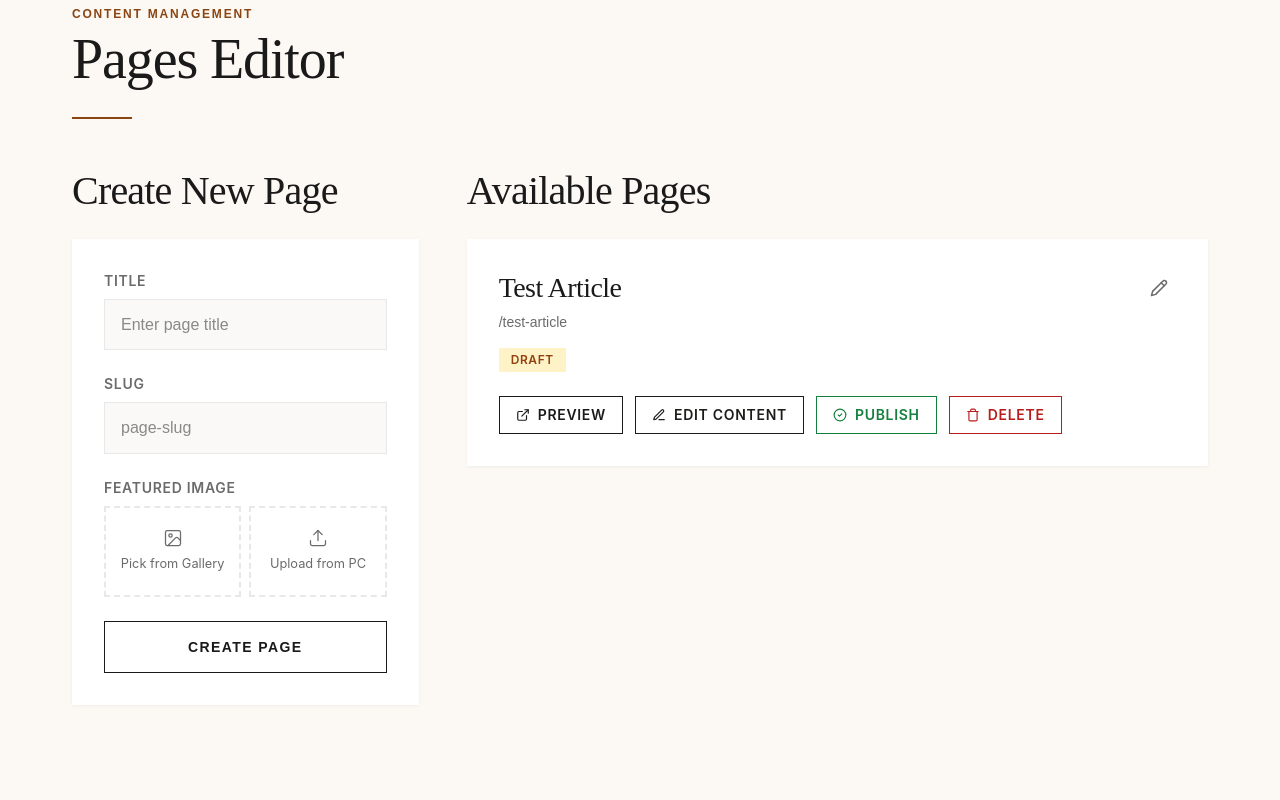
Scenario: ArticleEditor Component › Delete Article › should handle delete error
What coordinates should you click on to do the following:
click the button "Delete"
I would click on:
 (1005, 415)
Its box is [949,396,1062,434].
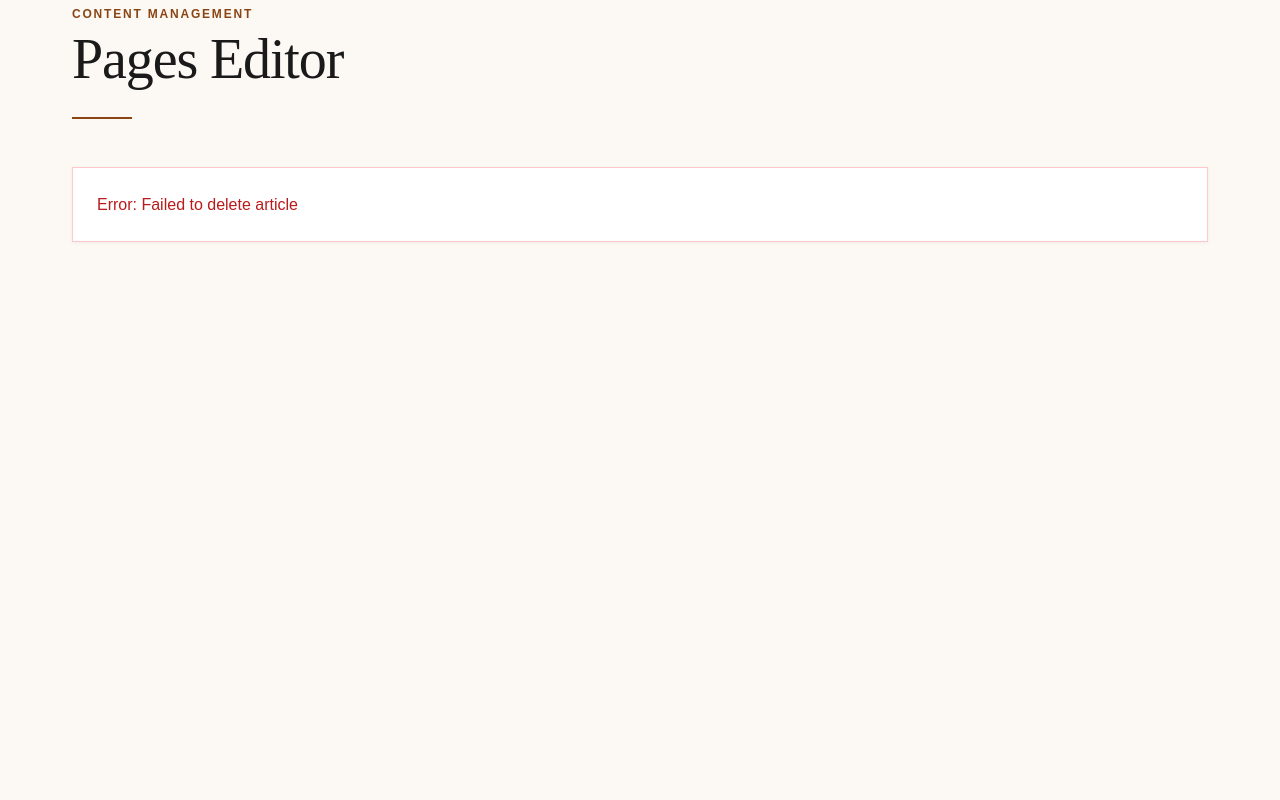
expect the text "Error: Failed to delete article" is shown: met, box [97,196,298,213]
